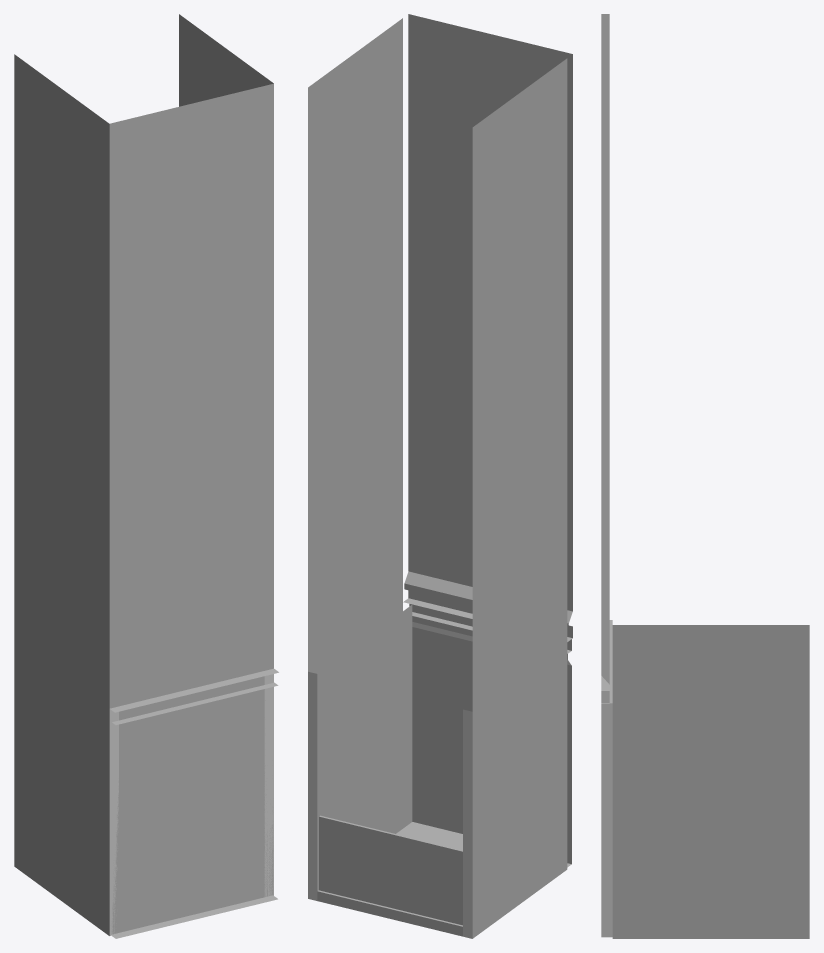
Rendered from AEC_29798.glb.
The picture shows the model from 3 angles, left to right: view 1: azimuth 30°, elevation 25°; view 2: azimuth 150°, elevation 25°; view 3: azimuth 270°, elevation 25°; orthographic projection. The views are drawn at different scales.
Visible parts, largest first — view 1: 0; view 2: 0; view 3: 0.
Part boxes in pixels (bbox=[...]): 0: bbox=[14, 14, 278, 938]; 0: bbox=[308, 14, 572, 938]; 0: bbox=[601, 14, 809, 938].
Size of the model in its own units: 0.3499 by 1.65 by 0.37.
1 material, 1 textured.
